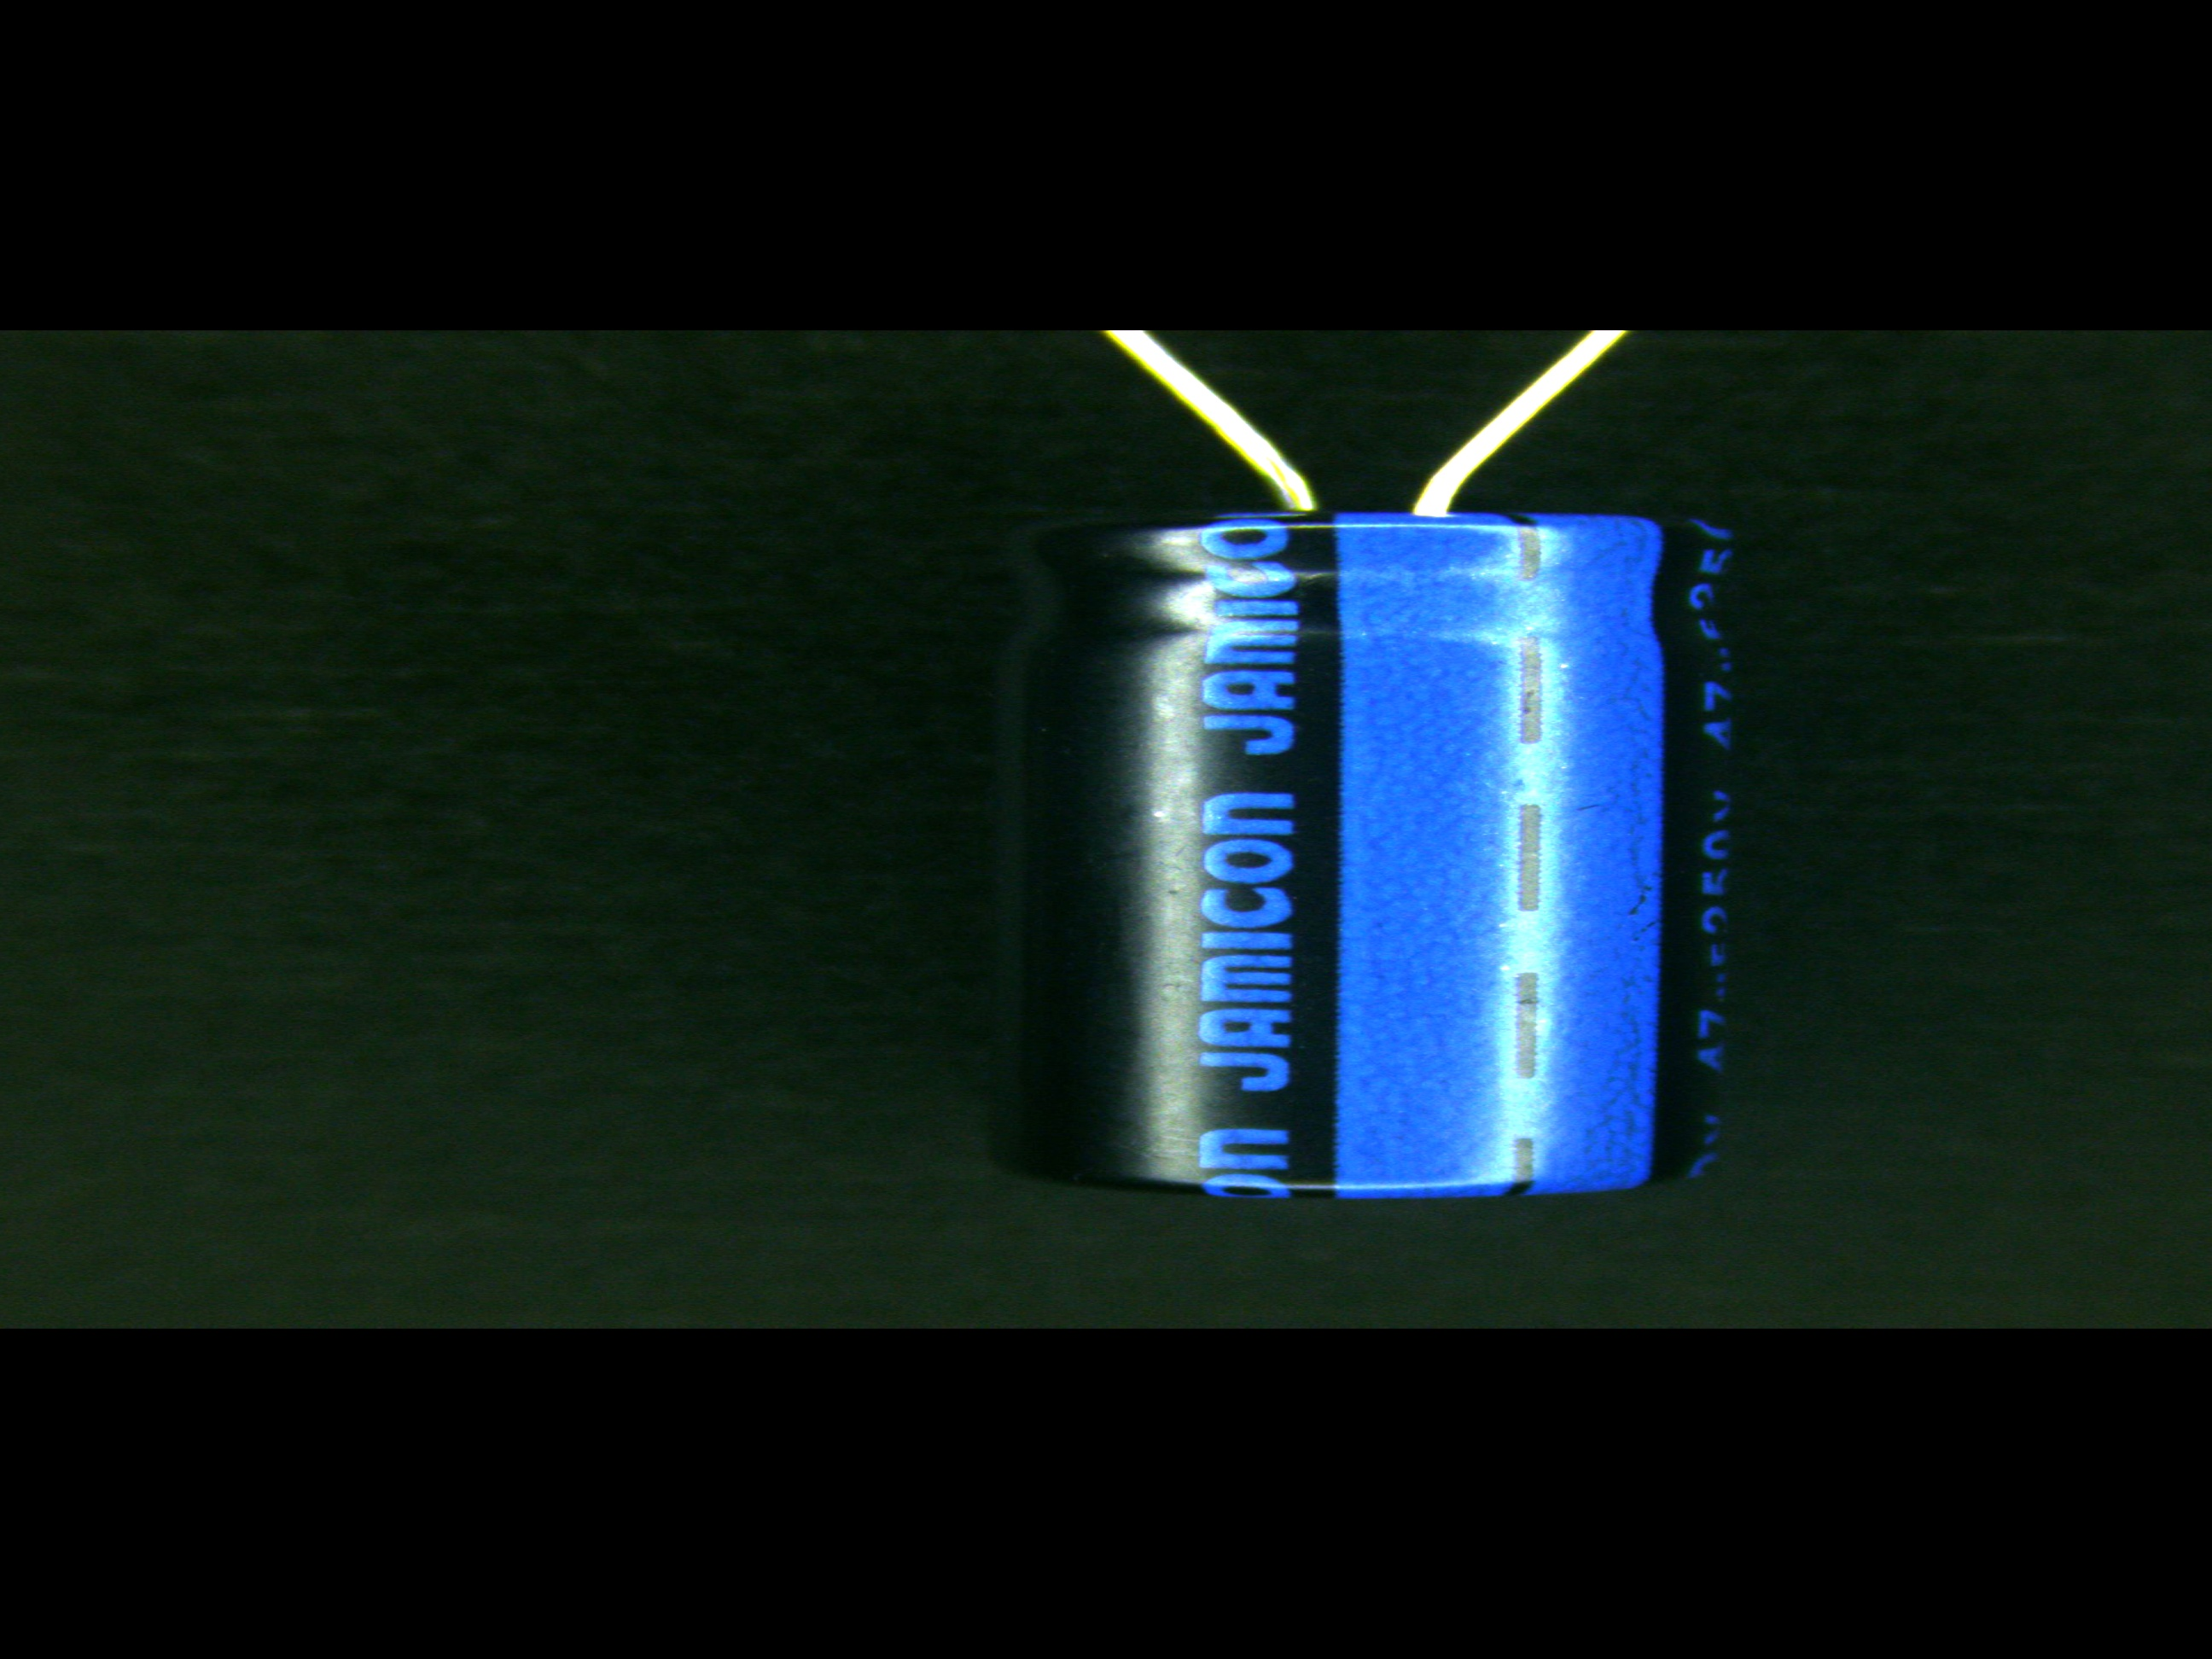c2: (986, 439, 1745, 1202)
